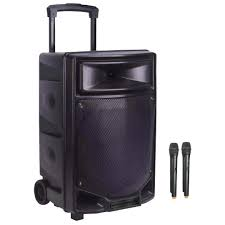microphone: (168, 142, 195, 202)
speaker: (33, 48, 163, 218)
